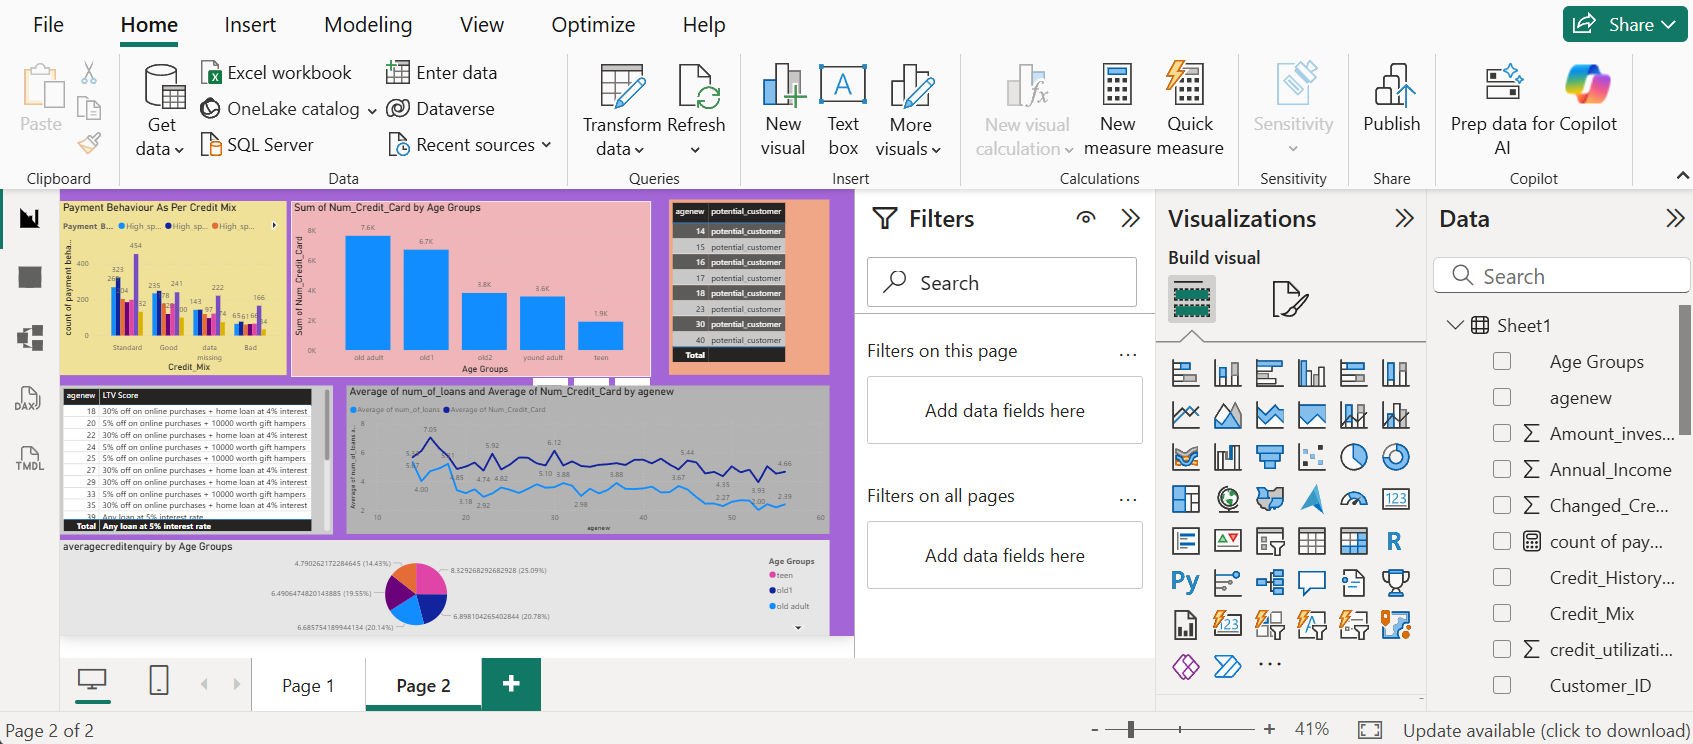

The dashboard page shown, as its layout file describes it:
{"tool":"powerbi","page":{"name":"Page 2","canvas":[1280,720],"ordinal":1},"visuals":[{"type":"clusteredColumnChart","title":"Payment Behaviour As Per Credit Mix","fields":{"Category":["Sheet1.Credit_Mix"],"Series":["Sheet1.Payment_Behaviour"],"Y":["Sheet1.Measure 2"]},"box":[0,19.3,365.1,280.5],"z":0},{"type":"clusteredColumnChart","fields":{"Category":["Sheet1.Age Groups"],"Y":["Sum(Sheet1.Num_Credit_Card)"]},"box":[372.4,19.3,580.4,282.9],"z":1},{"type":"tableEx","fields":{"Values":["Sheet1.agenew","Table.potential_customer"]},"box":[981.8,16.9,258.7,282.9],"z":2},{"type":"lineChart","fields":{"Category":["Sheet1.agenew"],"Y":["Avg(Sheet1.num_of_loans)","Avg(Sheet1.Num_Credit_Card)"]},"box":[461.9,316.8,778.6,239.4],"z":3},{"type":"tableEx","fields":{"Values":["Sheet1.agenew","Table.LTV Score"]},"box":[0,316.8,440.1,239.4],"z":4},{"type":"pieChart","fields":{"Y":["Table.averagecreditenquiry"],"Category":["Sheet1.Age Groups"]},"box":[0,565.8,1240.5,154.8],"z":5}]}

Visuals, with their boxes on the page's 1280x720 design canvas (x1, y1, x2, y2). These are canvas units, not pixel positions in the 1693x744 screenshot, which may show the page scaled, cropped or inside an application window:
"Payment Behaviour As Per Credit Mix" clusteredColumnChart: detection(0, 19, 365, 300)
clusteredColumnChart - Sheet1.Age Groups x Sum(Sheet1.Num_Credit_Card): detection(372, 19, 953, 302)
tableEx - Sheet1.agenew x Table.potential_customer: detection(982, 17, 1240, 300)
lineChart - Sheet1.agenew x Avg(Sheet1.num_of_loans): detection(462, 317, 1240, 556)
tableEx - Sheet1.agenew x Table.LTV Score: detection(0, 317, 440, 556)
pieChart - Table.averagecreditenquiry x Sheet1.Age Groups: detection(0, 566, 1240, 721)
